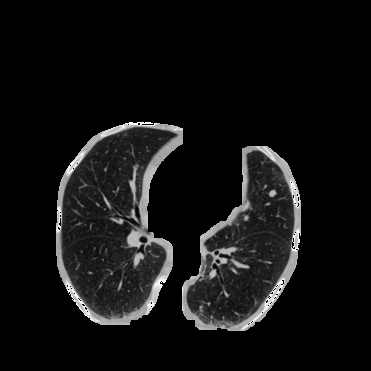PN: (268, 189, 276, 197)
